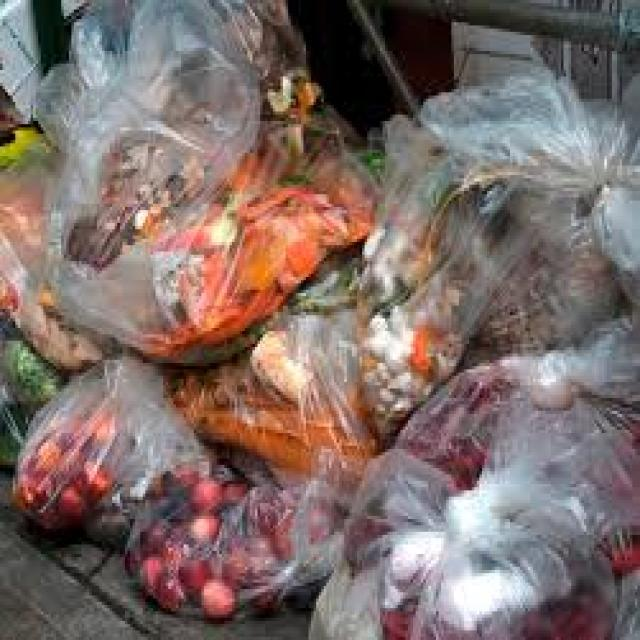food_waste: (27, 33, 593, 619)
